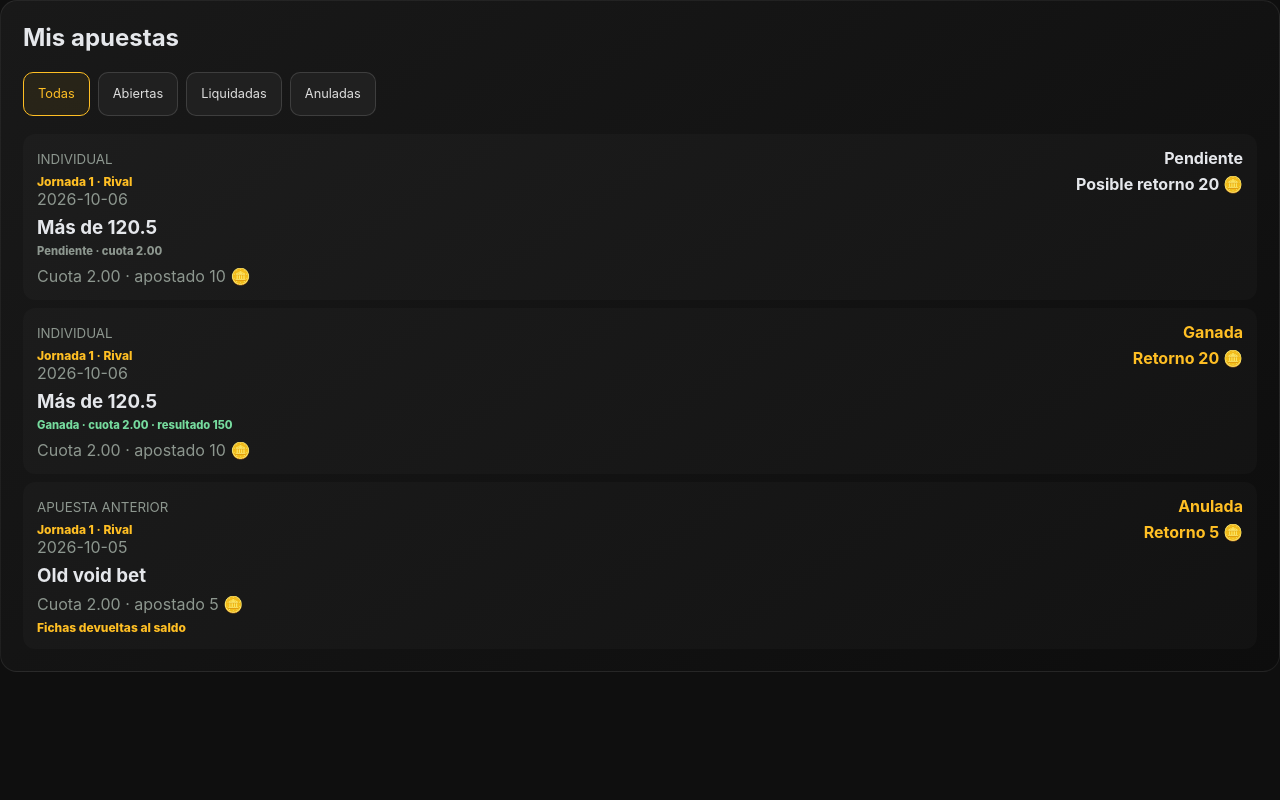
GazalBet Live and history views › filters legacy and new history together and shows per-leg results
The width and height of the screenshot is (1280, 800).
Click the button "Liquidadas" at (234, 94), box 186,72 -> 282,116
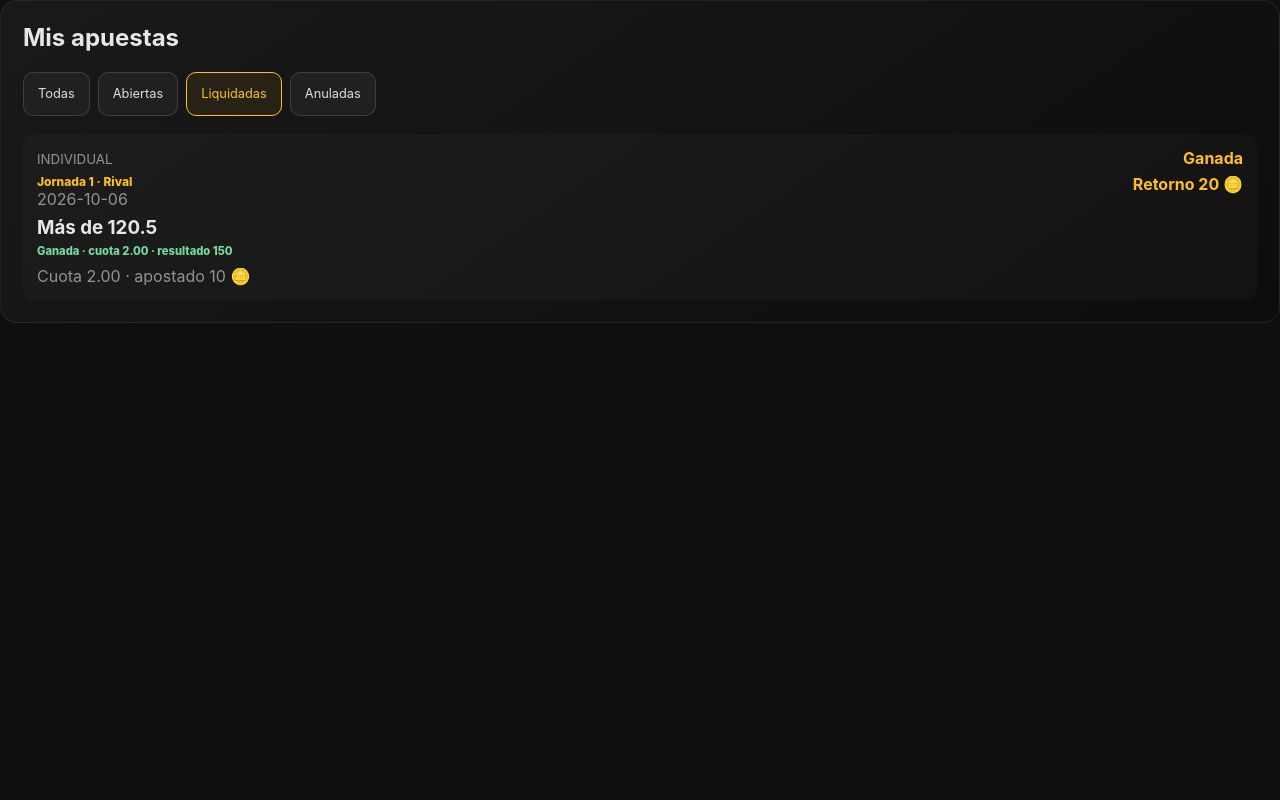
Check: the text "Ganada · cuota 2.00 · resultado 150" is shown, box 37,244 -> 232,258
Check: the heading "Old void bet" is gone
Click the button "Anuladas" at (333, 94), box 290,72 -> 376,116
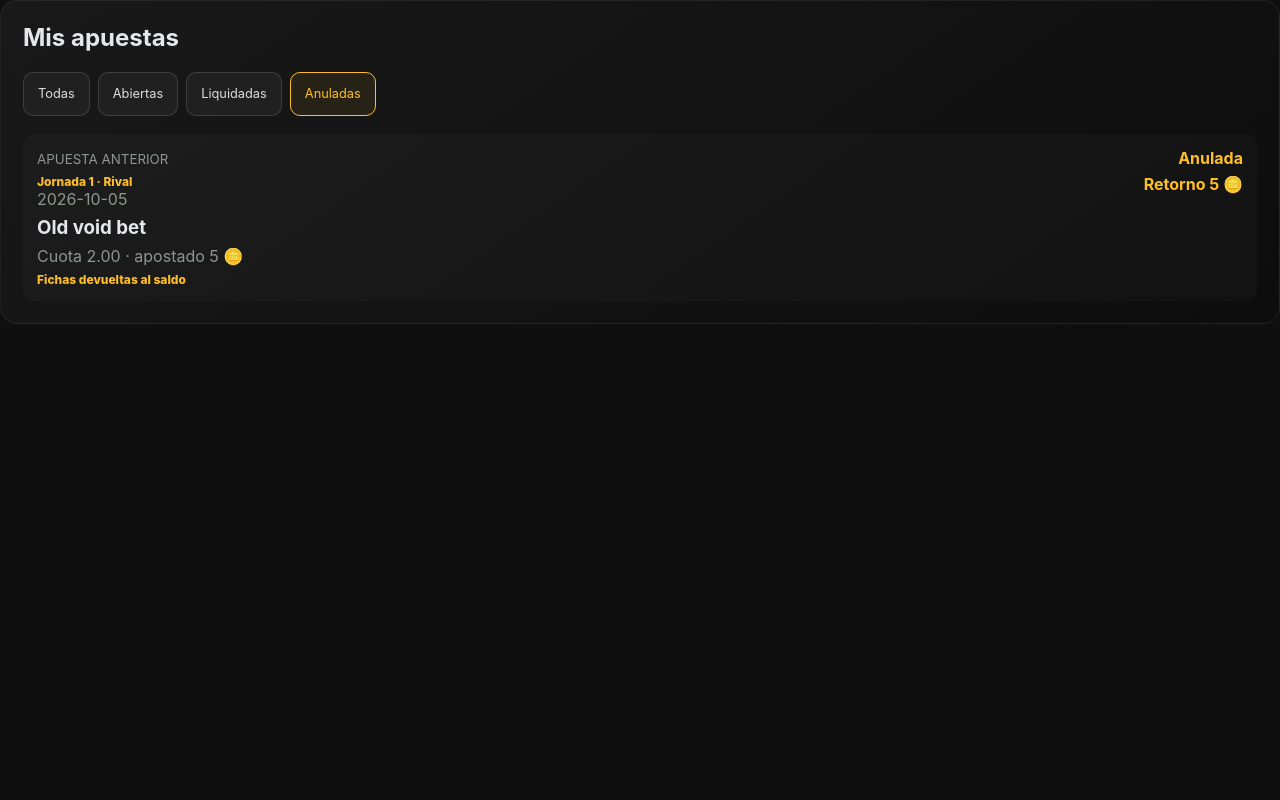
Check: the heading "Old void bet" is shown, box 37,216 -> 146,239
Check: the heading "Más de 120.5" is gone
